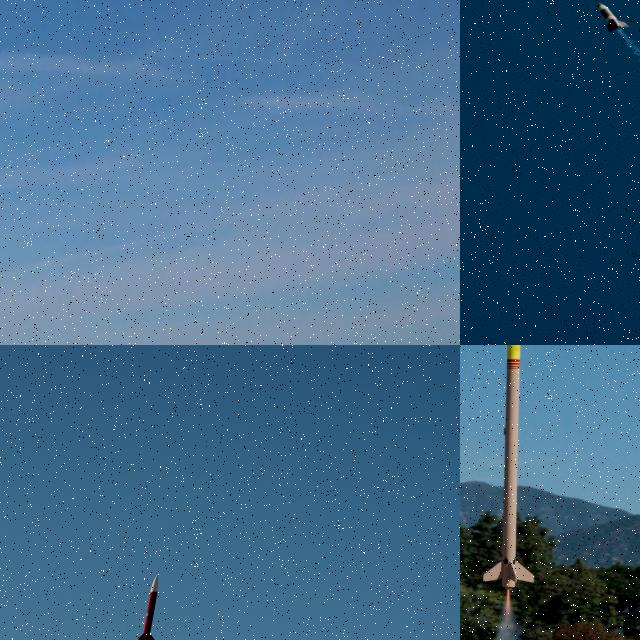Rocket: (481, 345, 536, 591), (137, 574, 159, 640), (596, 1, 630, 32)
